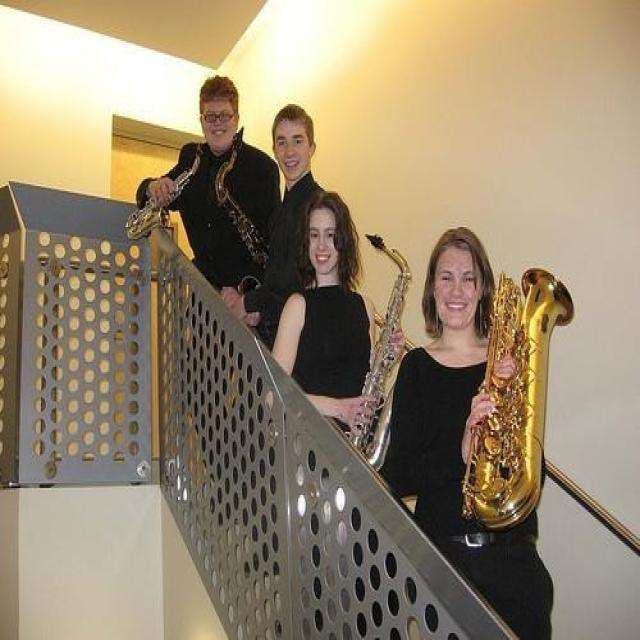saxophone: (350, 228, 417, 464), (211, 126, 274, 297), (124, 142, 207, 240)
